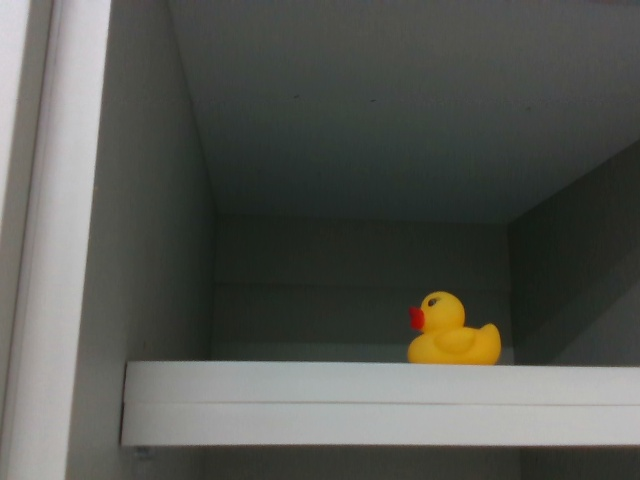duck: (400, 282, 505, 362)
